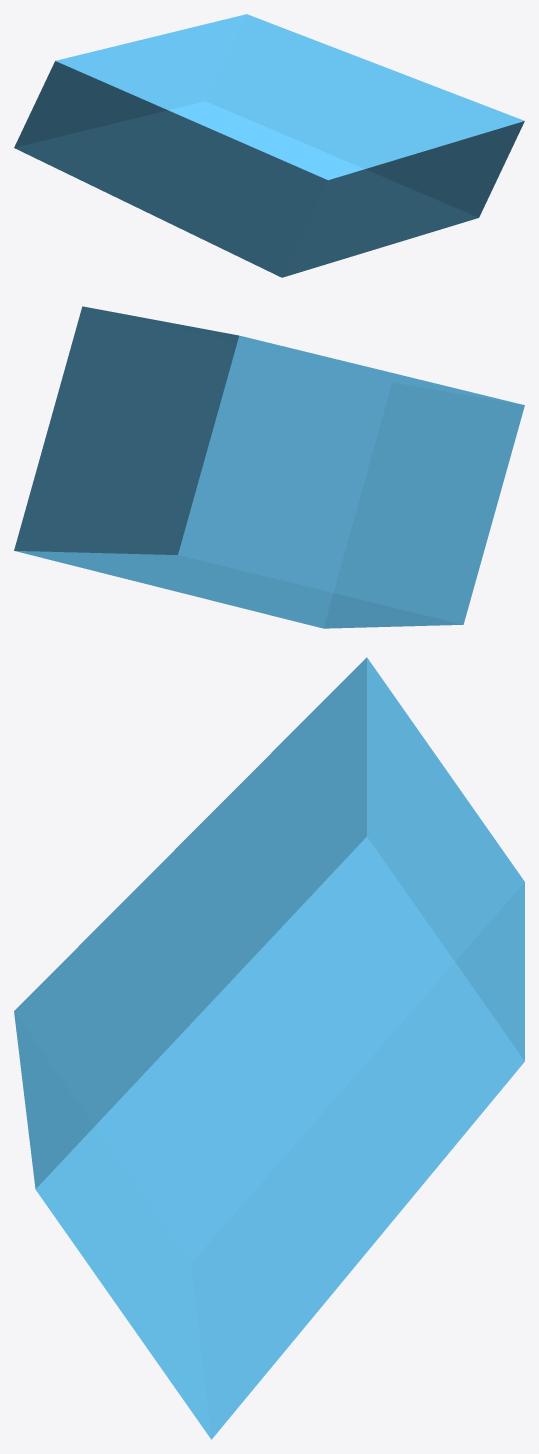
File: Event_421115418_HBrechit_32.fbx
3 renders of one model, top to bottom at view 1: azimuth 30°, elevation 25°; view 2: azimuth 150°, elevation 25°; view 3: azimuth 270°, elevation 25°, orthographic. The views are drawn at different scales.
Visible parts, largest first — view 1: Model; view 2: Model; view 3: Model.
Boxes of the visible parts, left/top/right/bottom form: Model: left=14, top=14, right=524, bottom=277; Model: left=14, top=306, right=524, bottom=628; Model: left=14, top=657, right=524, bottom=1439.
Bounding box in the file's own units: 1.16 × 0.6579 × 0.6977.
